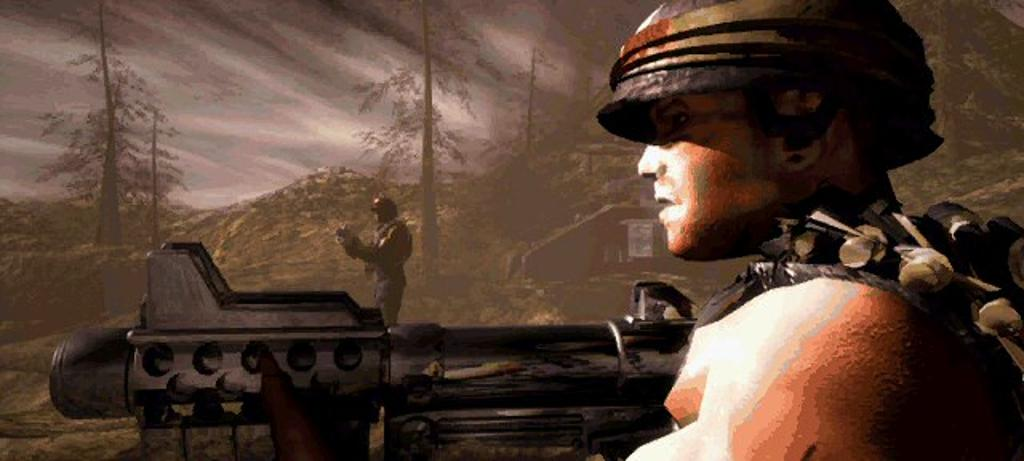face: (640, 50, 792, 246)
